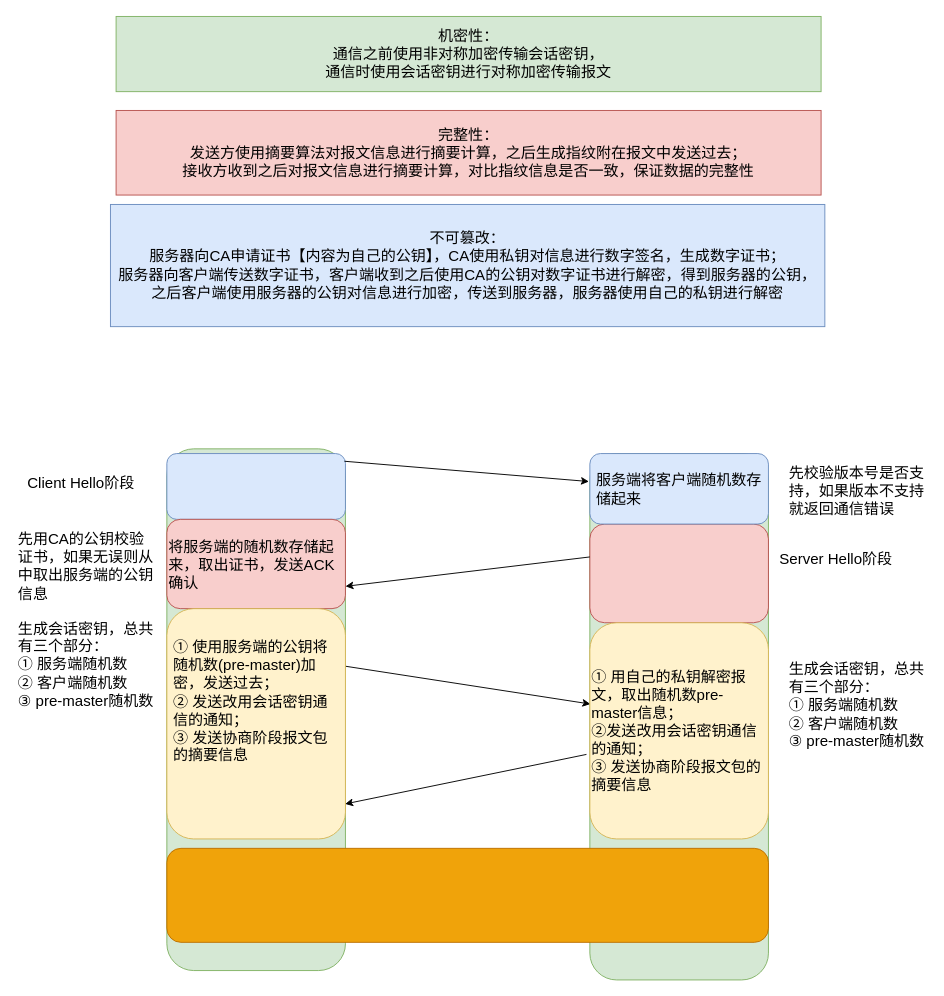
Image size: 944x996. Some labels were removed from this diagram. The shapes that lost their labels are listed below. From the top down, each one's centre as x and y in pixels, then its label:
At [255,486]: "客户端生成一个随机数，并附带上TLS版本号发送到服务端".
At [678,573]: "服务端生成一个随机数，并附带上TLS版本号以及数字证书发送到客户端 同时发送一个ACK确认客户端的随机数".
At [467,894]: "使用会话密钥进行通信".
